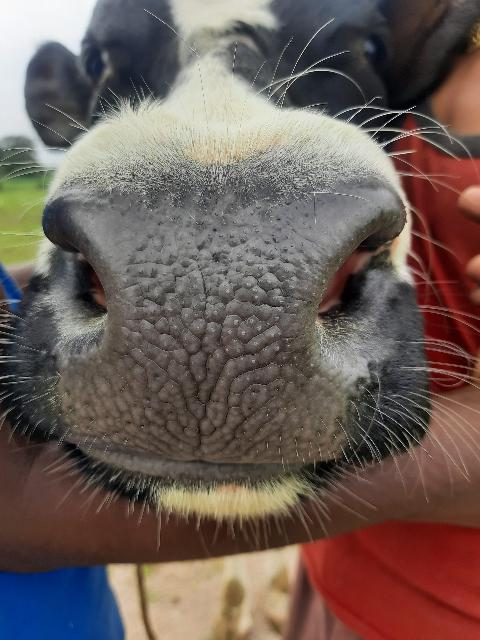Muzzle: (73, 197, 332, 459)
